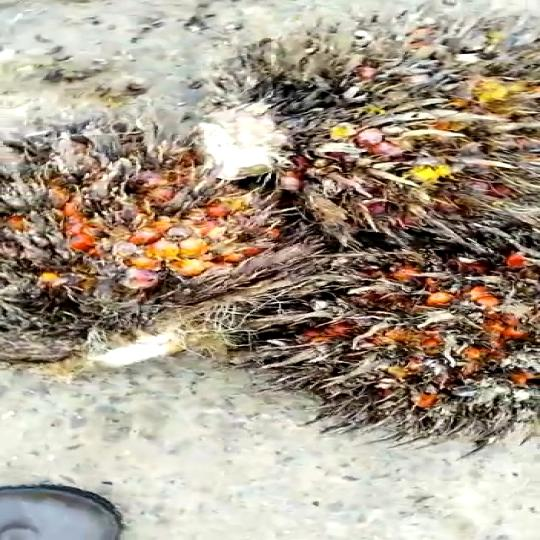terlalu masak: (0, 116, 296, 335), (222, 37, 540, 238), (224, 218, 540, 418)
